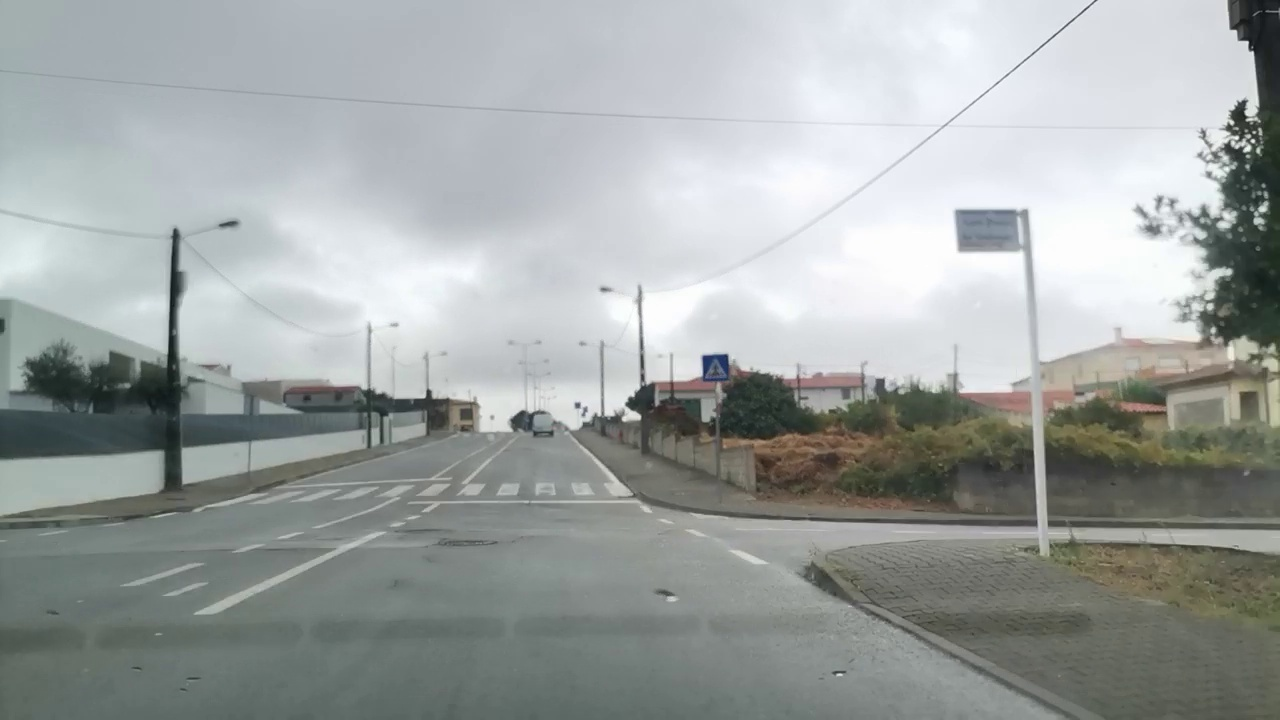Stairs: (224, 480, 636, 501)
